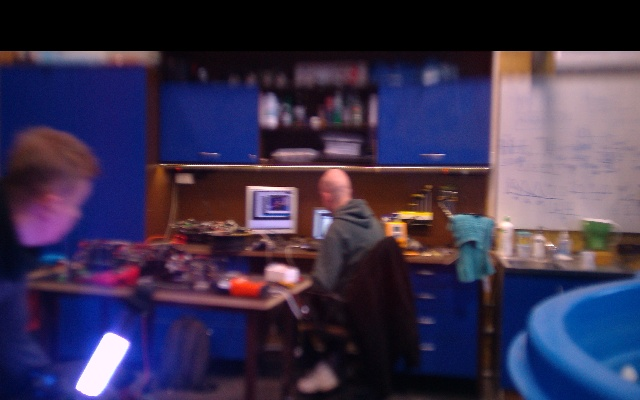white: (74, 331, 131, 396)
